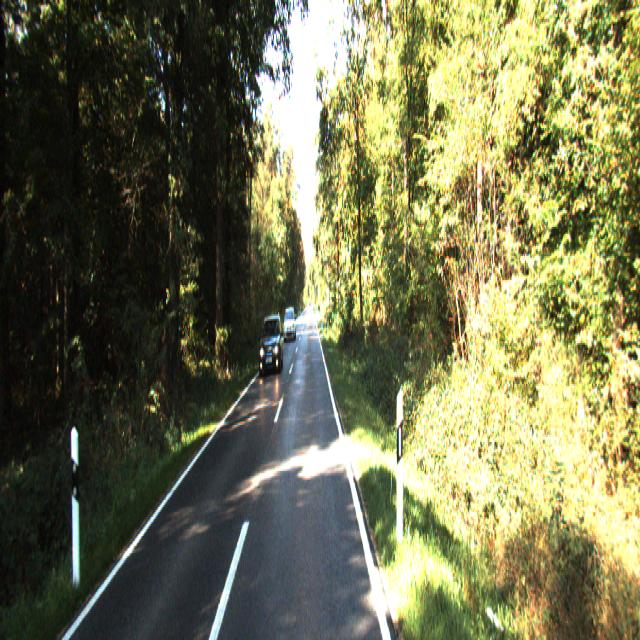Car: (258, 314, 284, 379), (283, 308, 296, 342)
